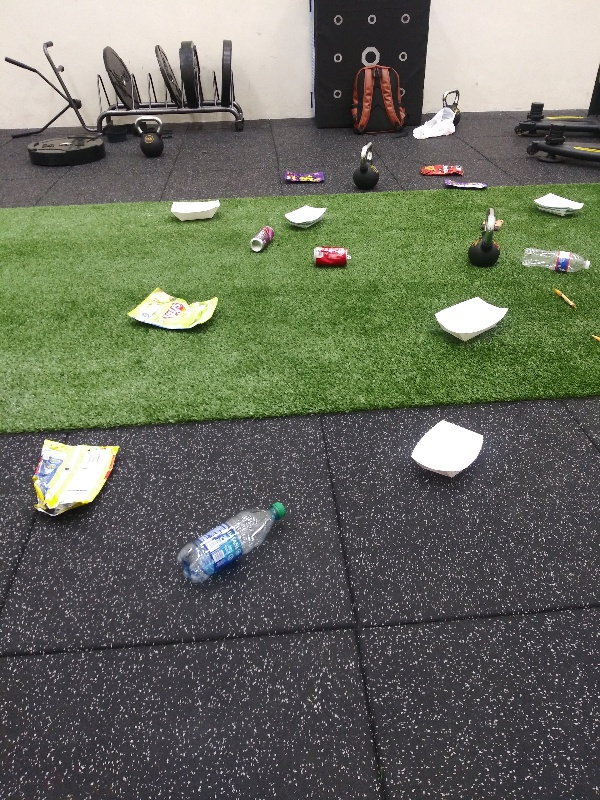bag: (28, 436, 119, 520), (122, 283, 224, 338), (278, 168, 326, 186), (443, 173, 488, 192), (415, 159, 467, 175)
bottle: (173, 497, 293, 591), (517, 245, 593, 282)
can: (307, 244, 355, 268), (247, 220, 277, 256)
plate: (404, 417, 487, 483), (428, 294, 514, 349), (529, 189, 589, 221), (166, 195, 225, 220), (283, 201, 331, 230)
